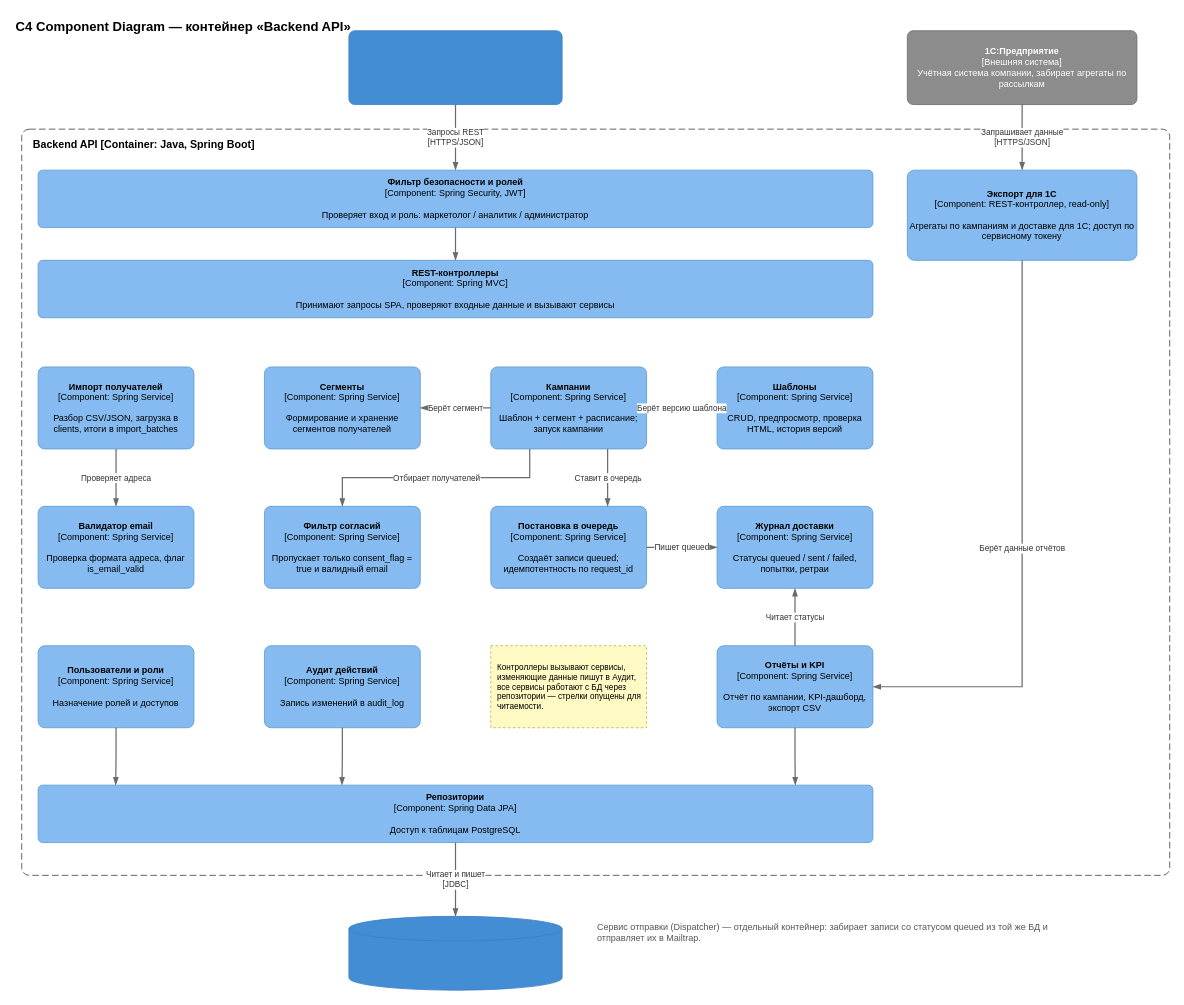
This 1184x1005 diagram has some shape labels left out. Each missing label, with the box of its shape:
База данных [Container: PostgreSQL]: (348, 916, 562, 990)
Веб-приложение (SPA) [Container: React]: (348, 30, 562, 105)
